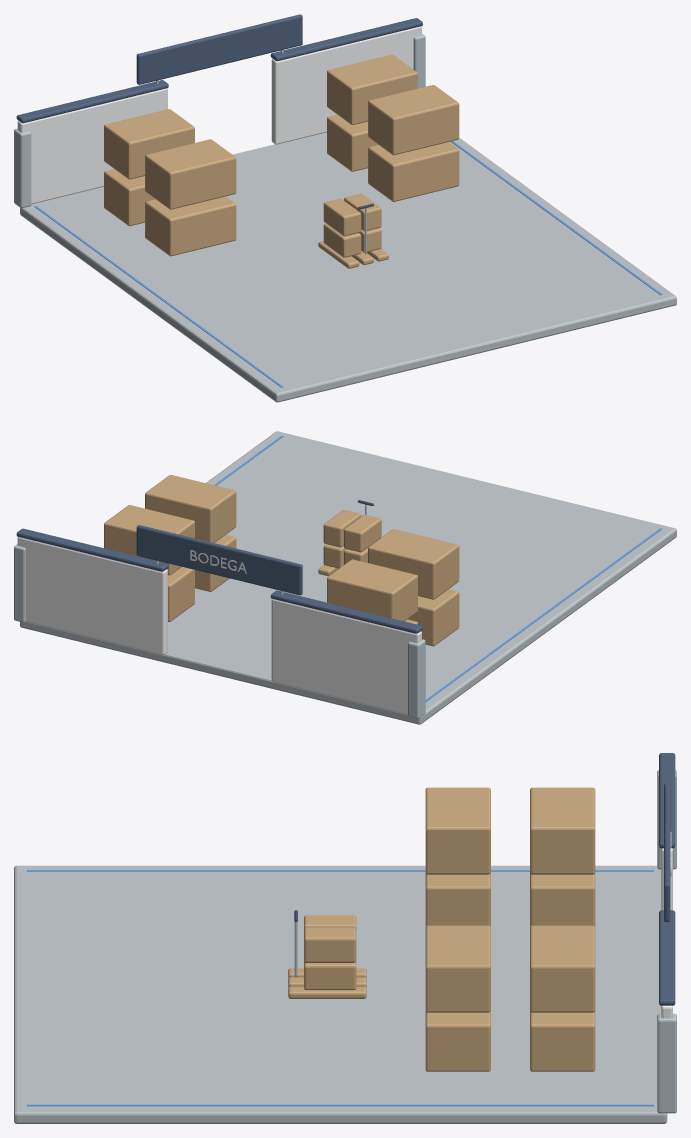
File: zone-warehouse.glb
3 renders of one model, top to bottom at view 1: azimuth 30°, elevation 25°; view 2: azimuth 150°, elevation 25°; view 3: azimuth 270°, elevation 25°, orthographic. The views are drawn at different scales.
Visible parts, largest first — view 1: Floor.003, Back wall.003, bin-b.001, bin-a.001, Section plaque.003, bin-d.001, bin-c.001, Pallet plank, Plaque support.003, Floor border.002; view 2: Floor.003, Back wall.003, Section plaque.003, bin-b.001, bin-a.001, bin-d.001, bin-c.001, Pallet plank, Plaque support.003, Floor border.002; view 3: Floor.003, bin-a.001, bin-c.001, bin-d.001, bin-b.001, Pallet plank, Section plaque.003, Floor border.002, Plaque support.003, Back wall.003.
Part boxes in pixels (box(x1,y1,x2,y2)): Floor.003: box(20, 132, 676, 402); Back wall.003: box(17, 26, 421, 204); bin-b.001: box(145, 139, 236, 256); bin-a.001: box(368, 85, 459, 201); Section plaque.003: box(16, 14, 422, 123); bin-d.001: box(104, 109, 194, 226); bin-c.001: box(327, 54, 417, 171); Pallet plank: box(318, 193, 388, 268); Plaque support.003: box(14, 34, 425, 208); Floor border.002: box(34, 141, 662, 387); Floor.003: box(20, 431, 676, 724); Back wall.003: box(17, 537, 421, 714); Section plaque.003: box(16, 525, 422, 633); bin-b.001: box(368, 529, 459, 646); bin-a.001: box(145, 475, 236, 591); bin-d.001: box(327, 559, 417, 624); bin-c.001: box(104, 505, 194, 621); Pallet plank: box(318, 510, 381, 576); Plaque support.003: box(14, 544, 425, 718); Floor border.002: box(214, 435, 662, 701); Floor.003: box(14, 865, 667, 1123); bin-a.001: box(425, 925, 490, 1071); bin-c.001: box(530, 925, 595, 1071); bin-d.001: box(530, 787, 595, 926); bin-b.001: box(425, 787, 490, 927); Pallet plank: box(288, 915, 366, 998); Section plaque.003: box(659, 753, 675, 1005); Floor border.002: box(27, 870, 653, 1106); Plaque support.003: box(657, 770, 676, 1113); Back wall.003: box(661, 832, 672, 1018).
Bounding box in the file's own units: 9.09 × 2.82 × 10.15.
